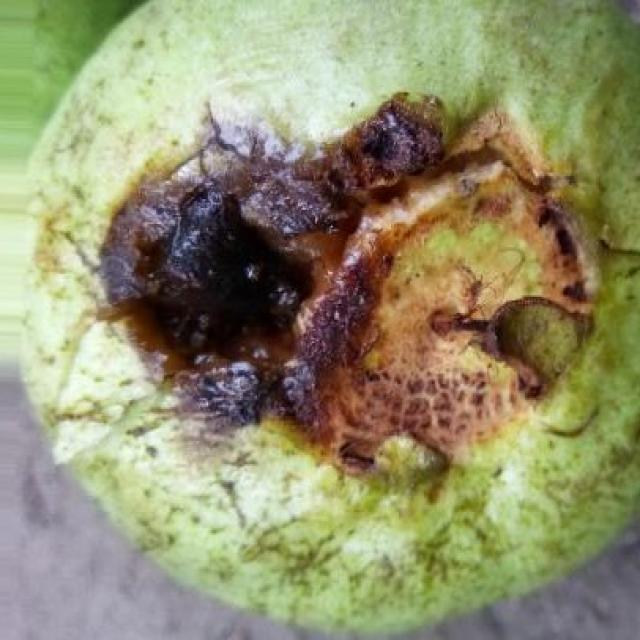Scab: (25, 1, 640, 629)
